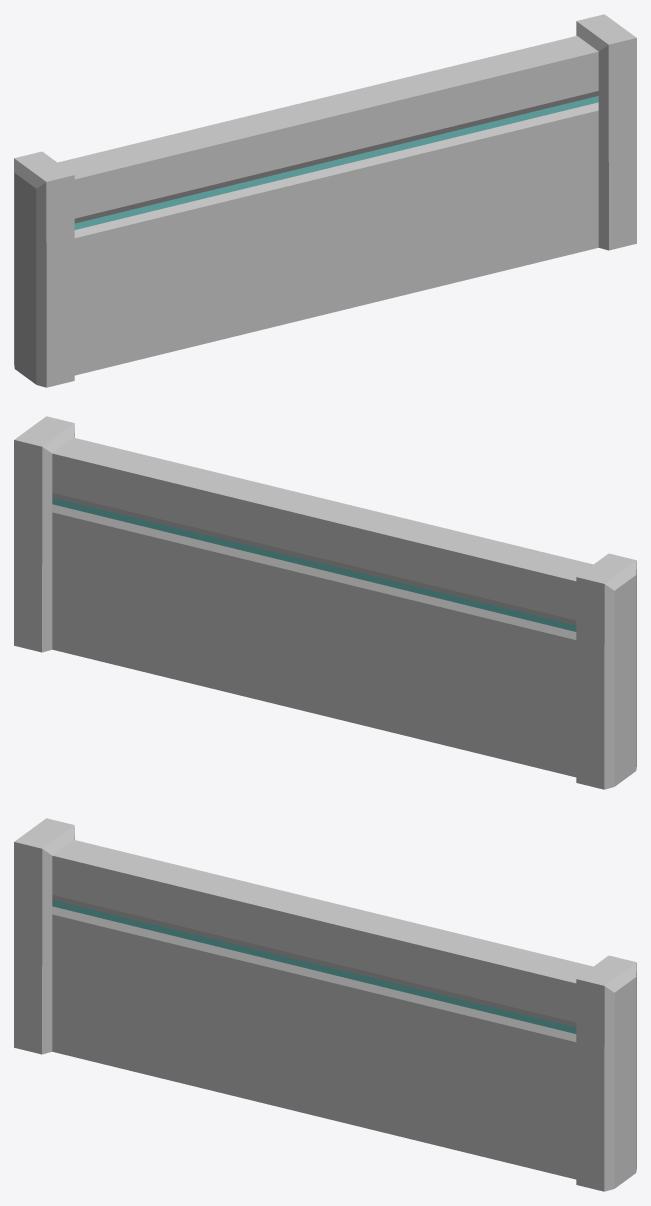
Rendered from BarrierShort.fbx.
3 renders of one model, top to bottom at view 1: azimuth 30°, elevation 25°; view 2: azimuth 150°, elevation 25°; view 3: azimuth 330°, elevation 25°, orthographic.
Visible parts, largest first — view 1: BarrierShort; view 2: BarrierShort; view 3: BarrierShort.
Boxes of the visible parts, x1,y1,x2,y2 form: BarrierShort: (14, 14, 636, 387); BarrierShort: (14, 416, 636, 789); BarrierShort: (14, 818, 636, 1191).
Size of the model in its own units: 3.2 by 1.05 by 0.3011.
